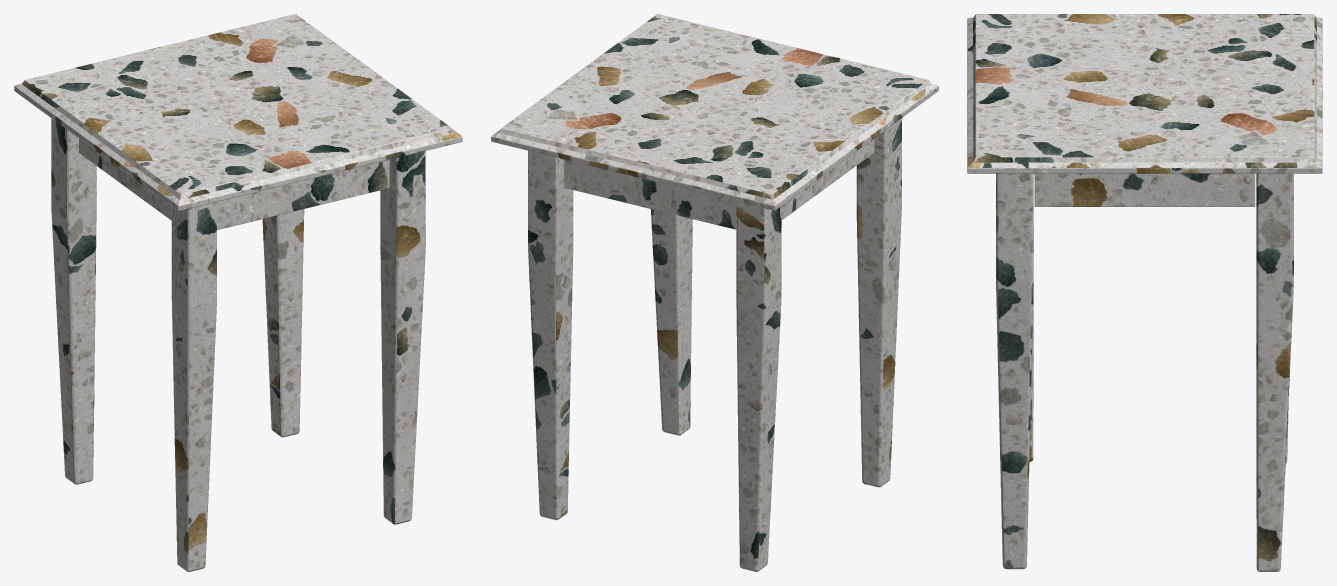
File: Table_terazzo_Big.gltf
The picture shows the model from 3 angles, left to right: view 1: azimuth 30°, elevation 25°; view 2: azimuth 150°, elevation 25°; view 3: azimuth 270°, elevation 25°; orthographic projection. The views are drawn at different scales.
Visible parts, largest first — view 1: 사이드 테이블; view 2: 사이드 테이블; view 3: 사이드 테이블.
Part boxes in pixels (box(x1,y1,x2,y2)): 사이드 테이블: box(14, 14, 462, 571); 사이드 테이블: box(491, 14, 938, 571); 사이드 테이블: box(967, 14, 1322, 571).
Size of the model in its own units: 0.6371 by 0.8462 by 0.6371.
